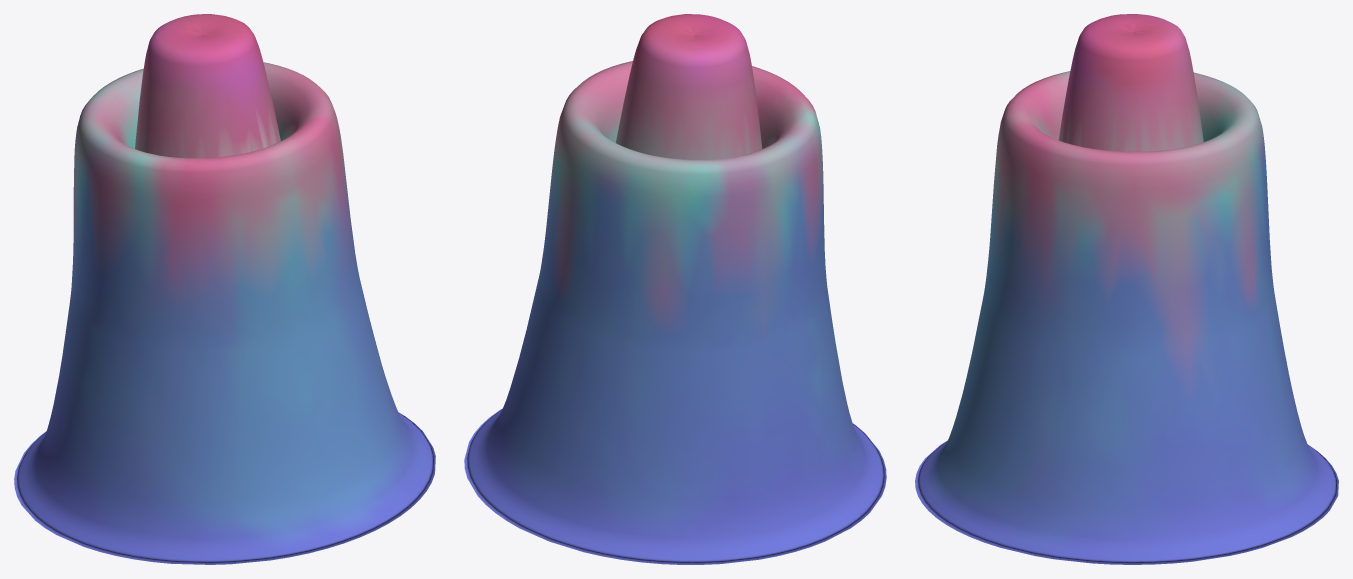
The picture shows the model from 3 angles, left to right: view 1: azimuth 30°, elevation 25°; view 2: azimuth 150°, elevation 25°; view 3: azimuth 270°, elevation 25°; orthographic projection.
Visible parts, largest first — view 1: LOD 1_9fa1a421-f8e0-511a-904e-ad4428e58ba6; view 2: LOD 1_9fa1a421-f8e0-511a-904e-ad4428e58ba6; view 3: LOD 1_9fa1a421-f8e0-511a-904e-ad4428e58ba6.
Part boxes in pixels (box(x1,y1,x2,y2)): LOD 1_9fa1a421-f8e0-511a-904e-ad4428e58ba6: box(14, 14, 435, 564); LOD 1_9fa1a421-f8e0-511a-904e-ad4428e58ba6: box(464, 14, 886, 564); LOD 1_9fa1a421-f8e0-511a-904e-ad4428e58ba6: box(915, 14, 1338, 564).
Bounding box in the file's own units: 1.26 × 1.5 × 1.26.
